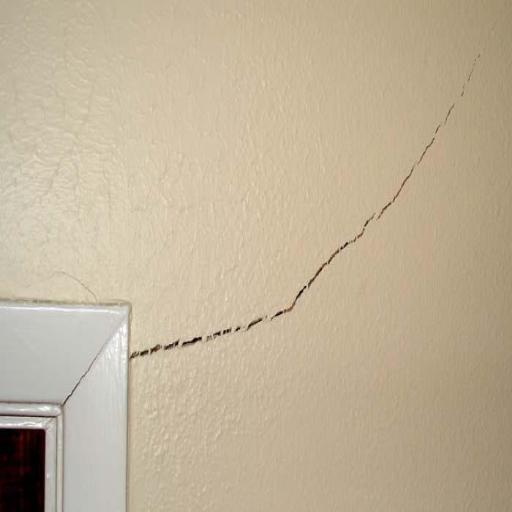spalling: (134, 47, 482, 371)
